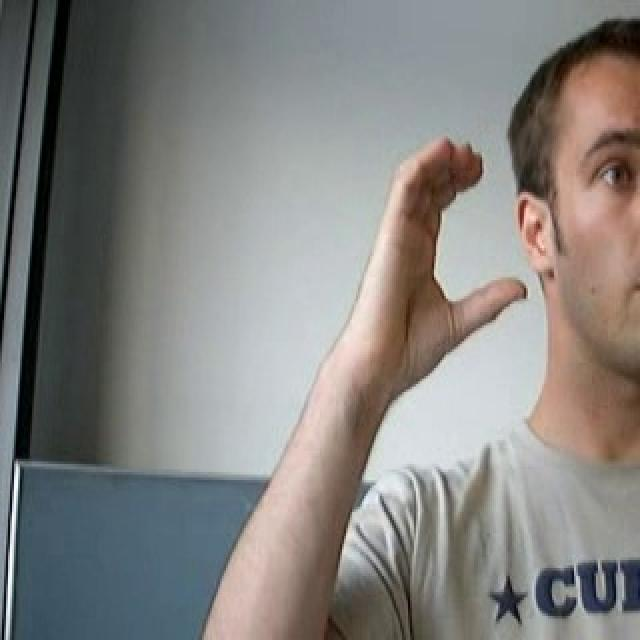C: (346, 120, 534, 408)
